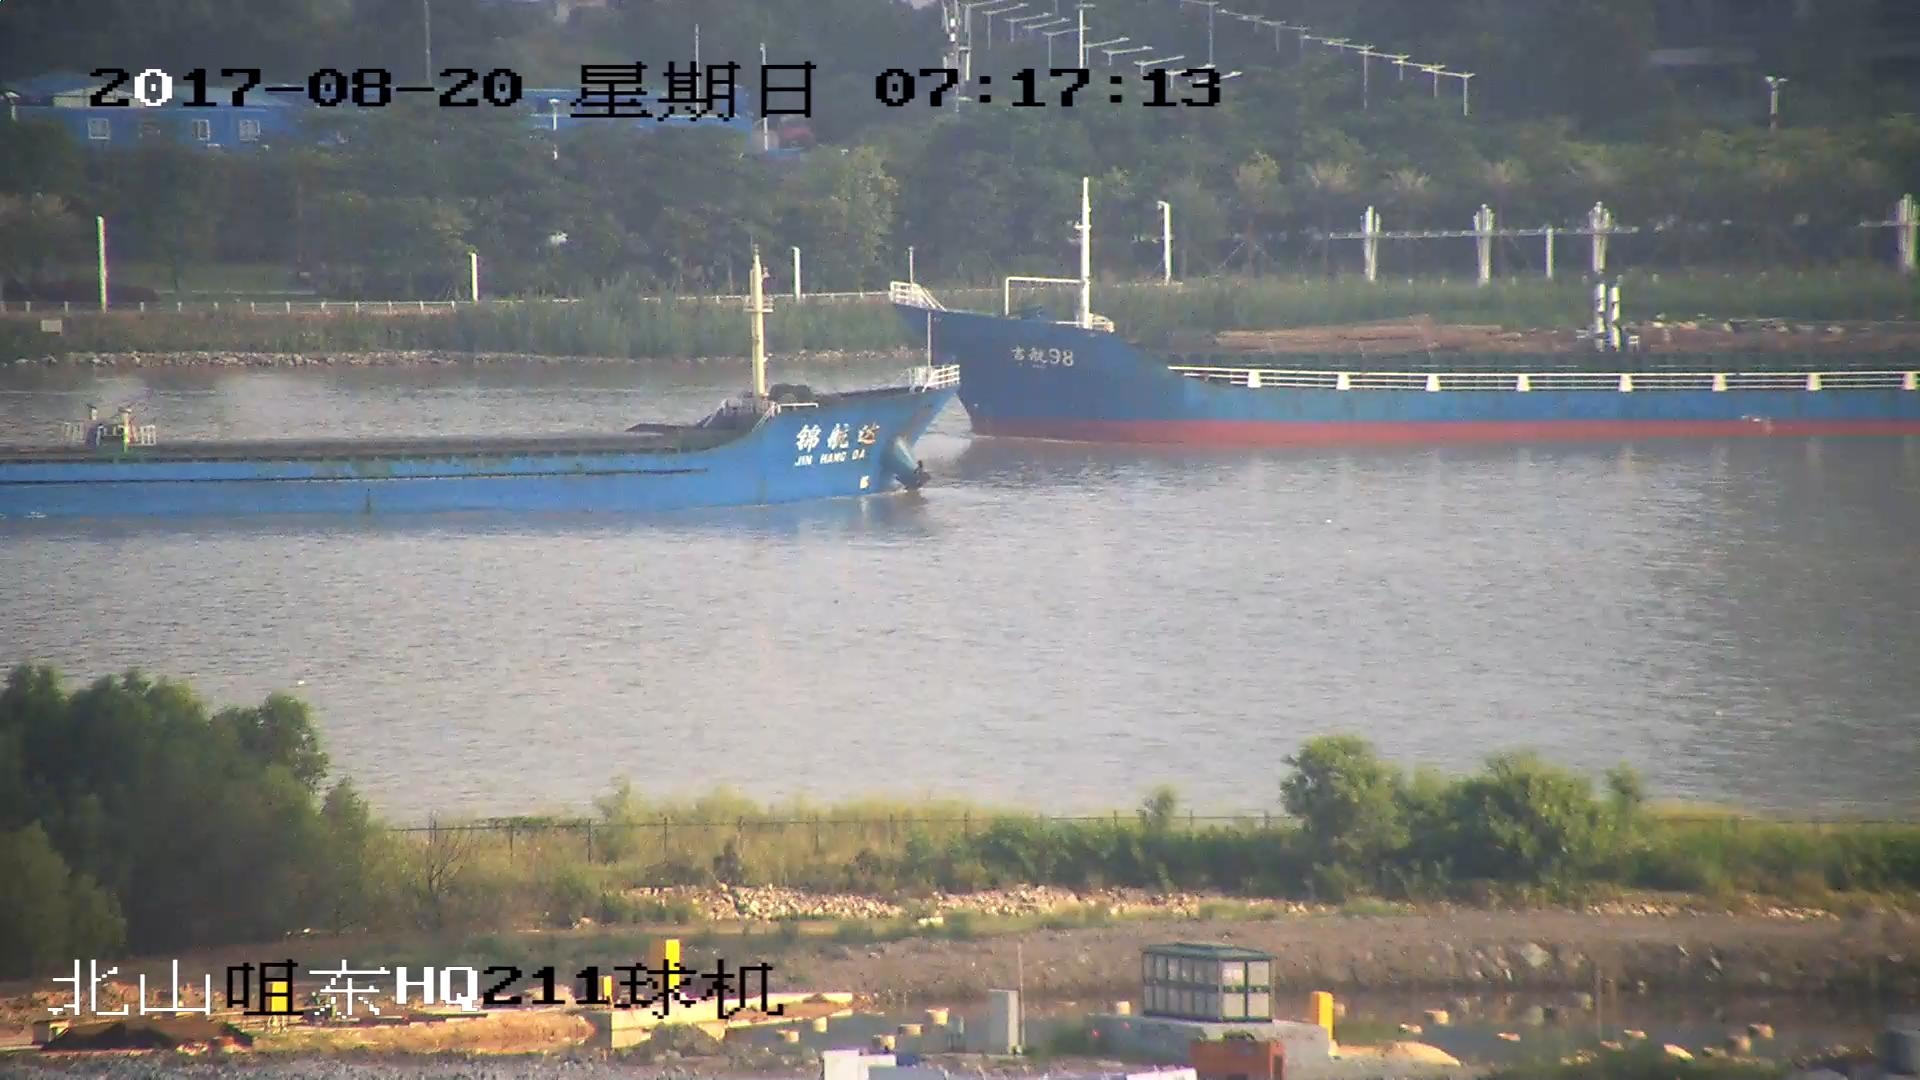general cargo ship: (1, 268, 955, 530), (895, 214, 1920, 441)
